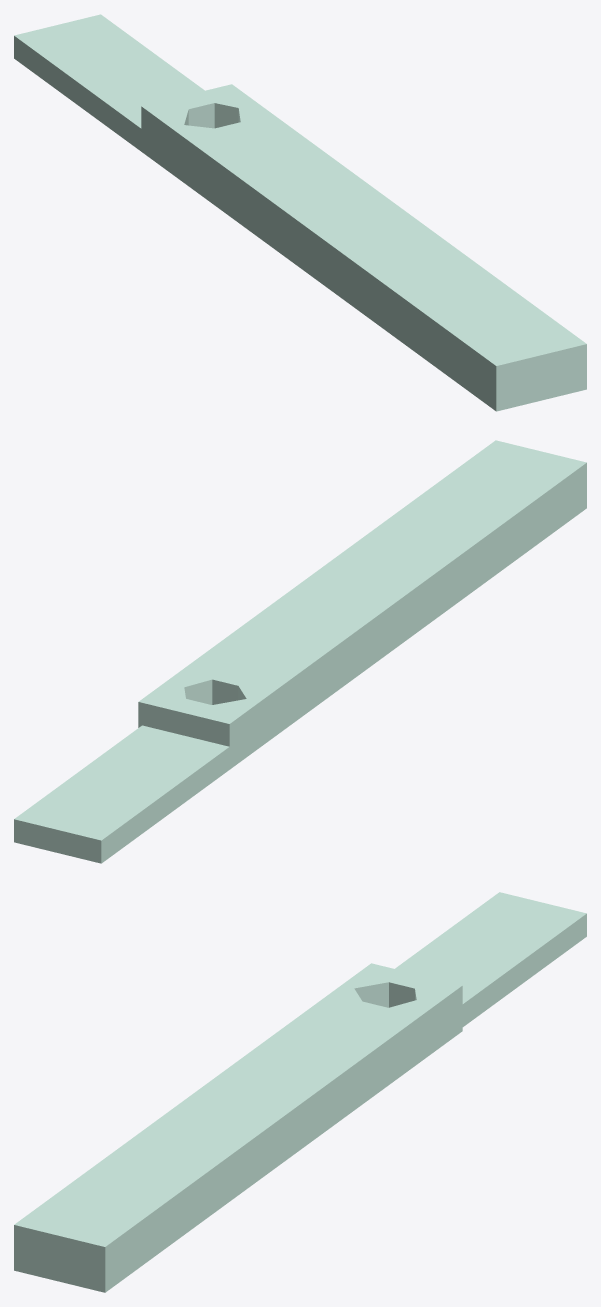
3 views of the same model, one above another, from view 1: azimuth 30°, elevation 25°; view 2: azimuth 150°, elevation 25°; view 3: azimuth 330°, elevation 25° (orthographic).
Parts seen in each view (by area): view 1: Renderer Node; view 2: Renderer Node; view 3: Renderer Node.
Part boxes in pixels (left/top/right/bottom): Renderer Node: left=14, top=14, right=586, bottom=411; Renderer Node: left=14, top=440, right=586, bottom=863; Renderer Node: left=14, top=892, right=586, bottom=1292.
Size of the model in its own units: 0.2118 by 0.1016 by 1.95.
